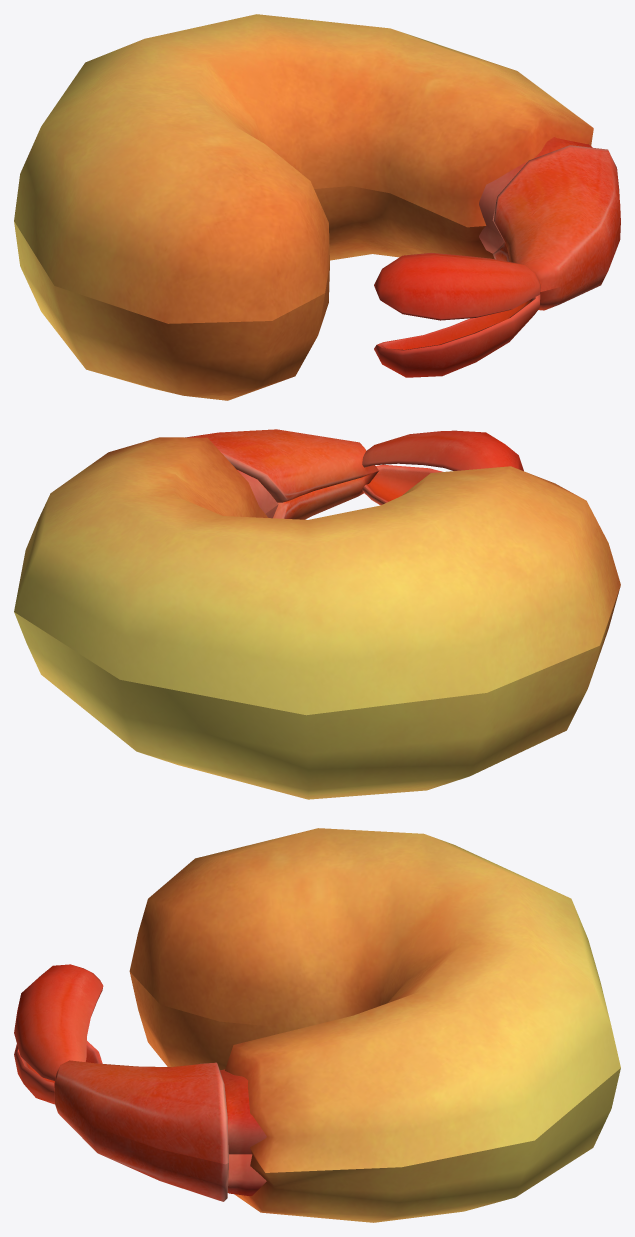
Rendered from Shrimp Fried.fbx.
The picture shows the model from 3 angles, top to bottom: view 1: azimuth 30°, elevation 25°; view 2: azimuth 150°, elevation 25°; view 3: azimuth 270°, elevation 25°; orthographic projection.
Parts seen in each view (by area): view 1: ShrimpFried_1; view 2: ShrimpFried_1; view 3: ShrimpFried_1.
Boxes of the visible parts, bbox=[...] form: ShrimpFried_1: bbox=[14, 14, 620, 400]; ShrimpFried_1: bbox=[14, 429, 620, 799]; ShrimpFried_1: bbox=[14, 828, 620, 1222].
Bounding box in the file's own units: 24.12 × 11.25 × 23.43.
Materials: 1 (1 with a texture image).
